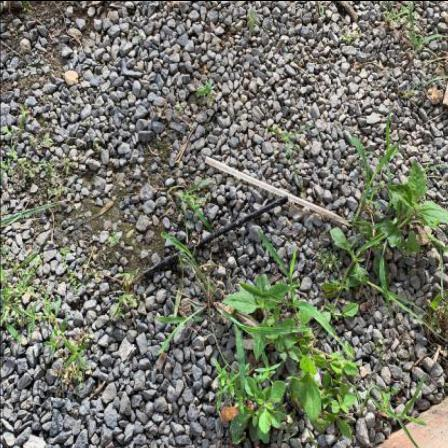Cigarette: (223, 405, 255, 423)
Straw: (143, 195, 288, 278), (206, 156, 351, 226)
